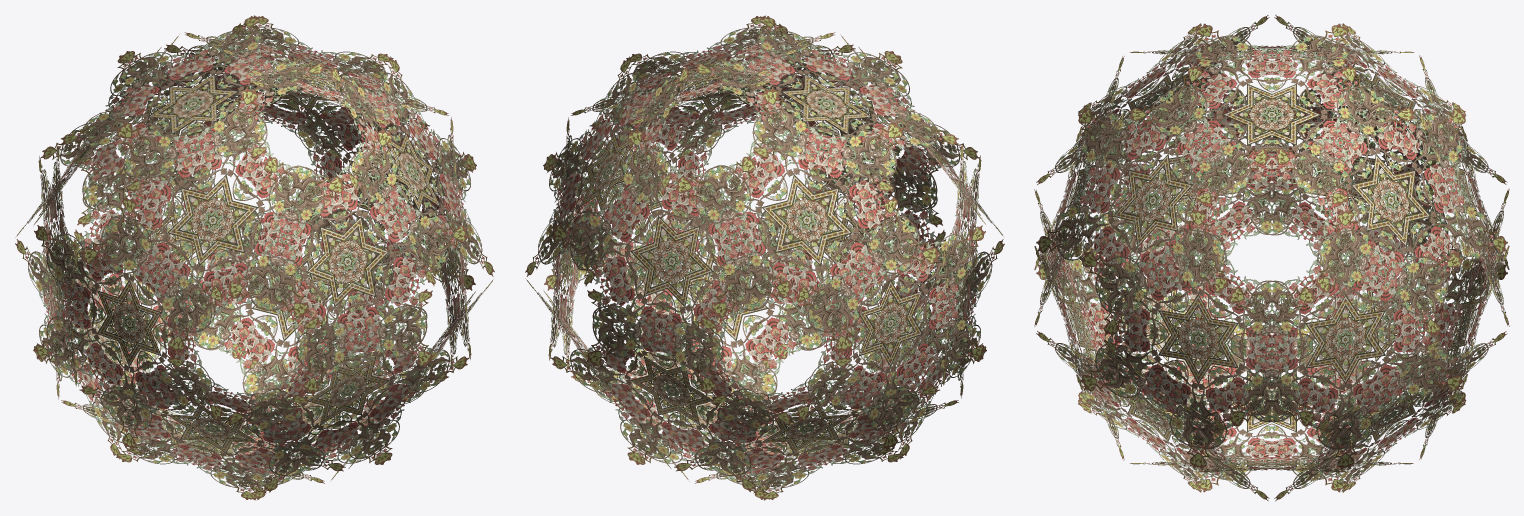
The model's file is SmallIcosicosidodecahedron8.gltf.
3 renders of one model, left to right at view 1: azimuth 30°, elevation 25°; view 2: azimuth 150°, elevation 25°; view 3: azimuth 270°, elevation 25°, orthographic. The views are drawn at different scales.
Visible parts, largest first — view 1: SmallIcosicosidodecahedron; view 2: SmallIcosicosidodecahedron; view 3: SmallIcosicosidodecahedron.
Boxes of the visible parts, x1,y1,x2,y2 form: SmallIcosicosidodecahedron: [15, 15, 494, 500]; SmallIcosicosidodecahedron: [525, 15, 1004, 500]; SmallIcosicosidodecahedron: [1034, 14, 1509, 501].
Size of the model in its own units: 3.24 by 3.24 by 3.24.
Materials: 1 (1 with a texture image).
